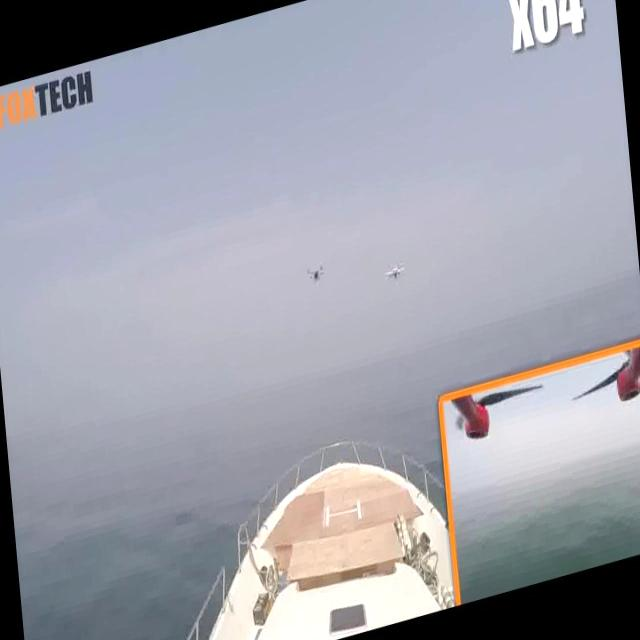drone: (381, 251, 410, 289), (306, 262, 326, 284)
